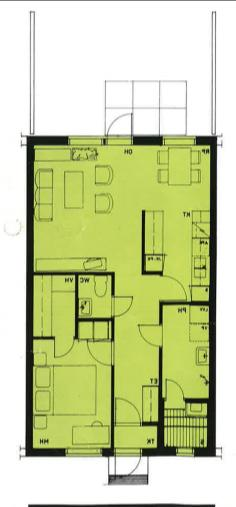door: (113, 446, 144, 480), (104, 110, 134, 145), (85, 336, 119, 366), (113, 395, 144, 427), (159, 272, 191, 300), (136, 320, 164, 348), (48, 334, 76, 359), (162, 377, 188, 402), (110, 291, 134, 318)
window: (65, 131, 107, 150), (58, 442, 104, 459), (158, 134, 198, 147), (171, 444, 199, 459)
